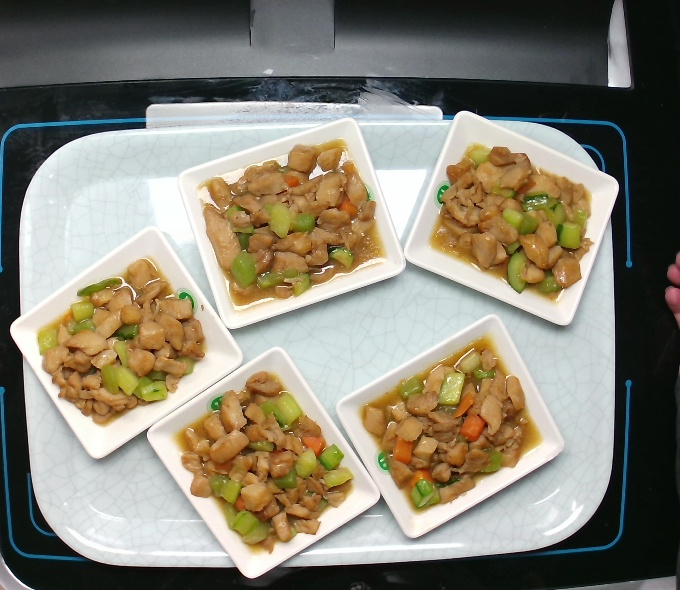wcq-GongBaoJiDing: (192, 138, 391, 307), (174, 371, 352, 556), (362, 338, 544, 516), (35, 250, 215, 428), (428, 137, 595, 304)
